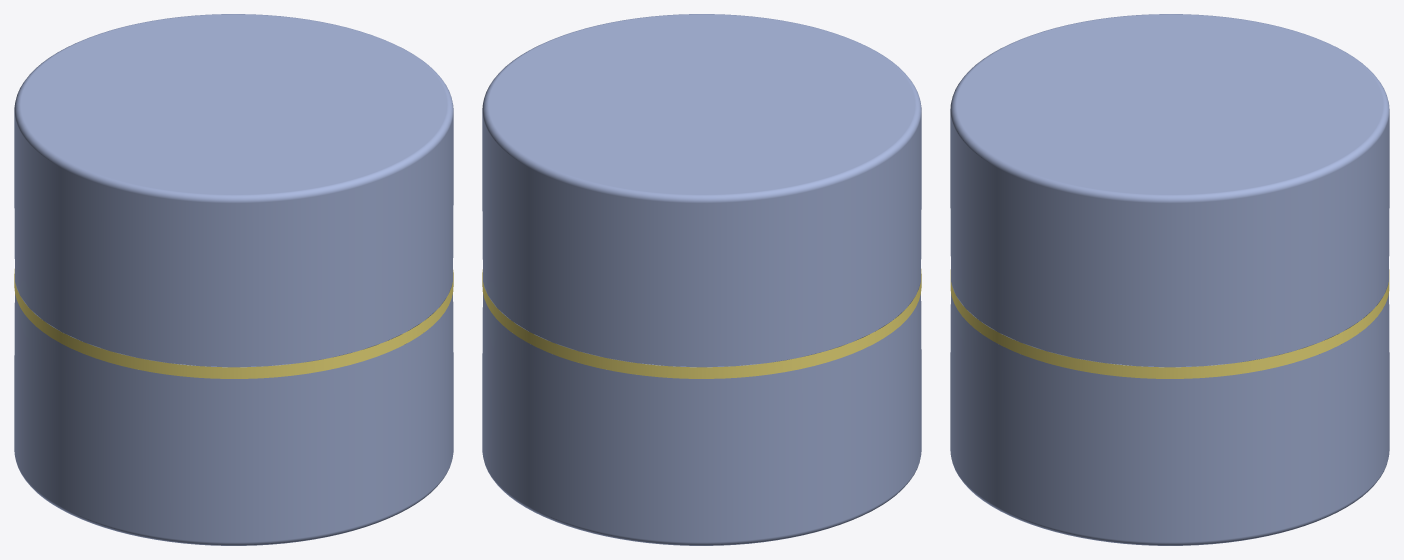
The model's file is 小原子右肘.glb.
3 views of the same model, side by side, from view 1: azimuth 30°, elevation 25°; view 2: azimuth 150°, elevation 25°; view 3: azimuth 270°, elevation 25° (orthographic).
Size of the model in its own units: 0.0667 by 0.0588 by 0.0667.
